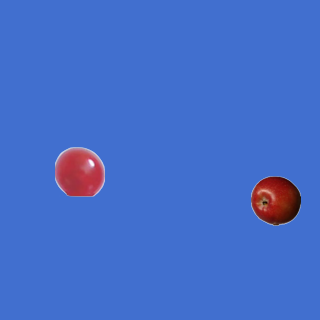Apple Braeburn: (250, 175, 300, 225)
Redcurrant: (54, 146, 104, 196)
